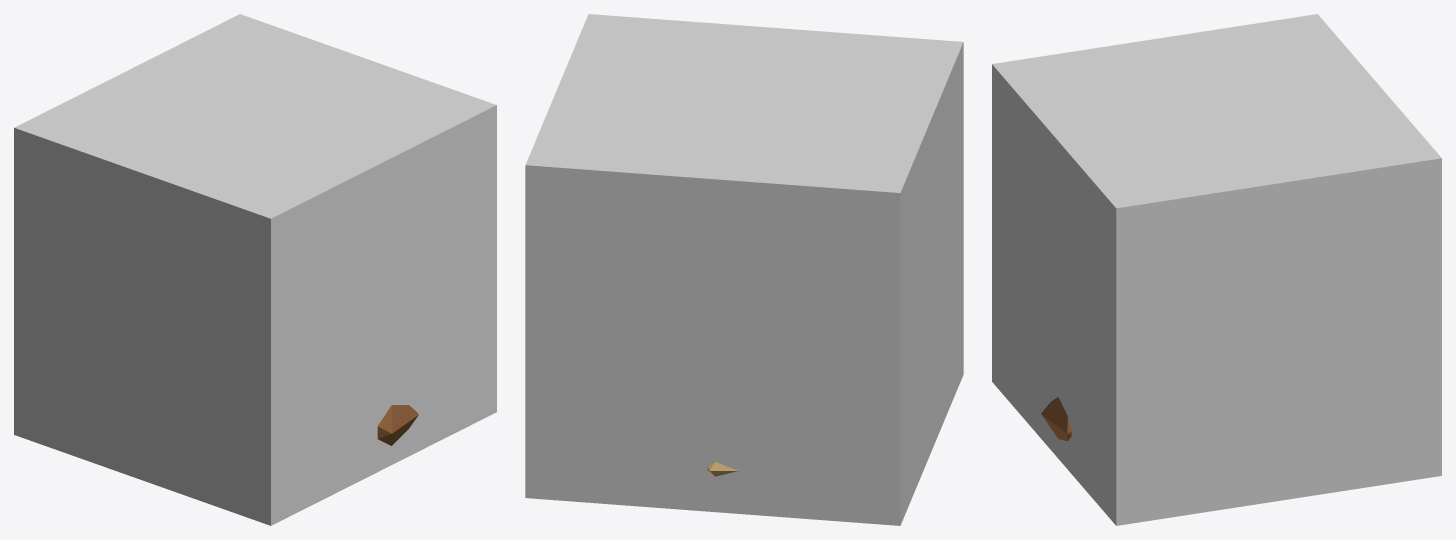
Rendered from desert_pet6.fbx.
3 views of the same model, side by side, from view 1: azimuth 30°, elevation 25°; view 2: azimuth 150°, elevation 25°; view 3: azimuth 270°, elevation 25° (orthographic). The views are drawn at different scales.
Parts seen in each view (by area): view 1: Root__0.00_0.48_-0.01__0.98_0.95_0.94, Seg1__Root__0.00_0.17_0.00; view 2: Root__0.00_0.48_-0.01__0.98_0.95_0.94; view 3: Root__0.00_0.48_-0.01__0.98_0.95_0.94, Seg1__Root__0.00_0.17_0.00.
Boxes of the visible parts, left/top/right/bottom form: Root__0.00_0.48_-0.01__0.98_0.95_0.94: left=14, top=14, right=496, bottom=525; Seg1__Root__0.00_0.17_0.00: left=377, top=405, right=418, bottom=445; Root__0.00_0.48_-0.01__0.98_0.95_0.94: left=525, top=14, right=963, bottom=525; Root__0.00_0.48_-0.01__0.98_0.95_0.94: left=992, top=14, right=1441, bottom=525; Seg1__Root__0.00_0.17_0.00: left=1041, top=397, right=1071, bottom=441.
Size of the model in its own units: 34.91 by 26.6 by 34.16.
1 material, 1 textured.
